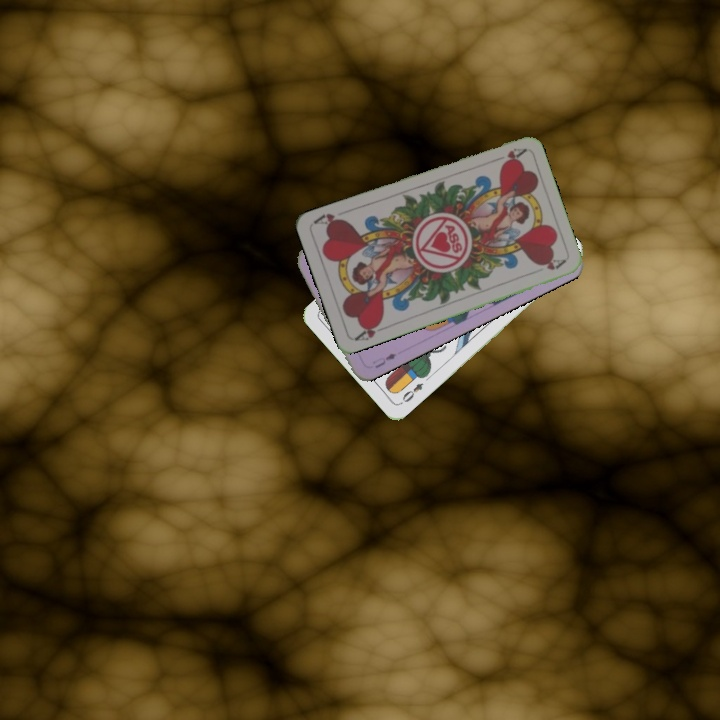EO: (396, 379, 426, 407)
EU: (368, 349, 399, 371)
HA: (351, 317, 390, 344), (488, 144, 527, 167)
